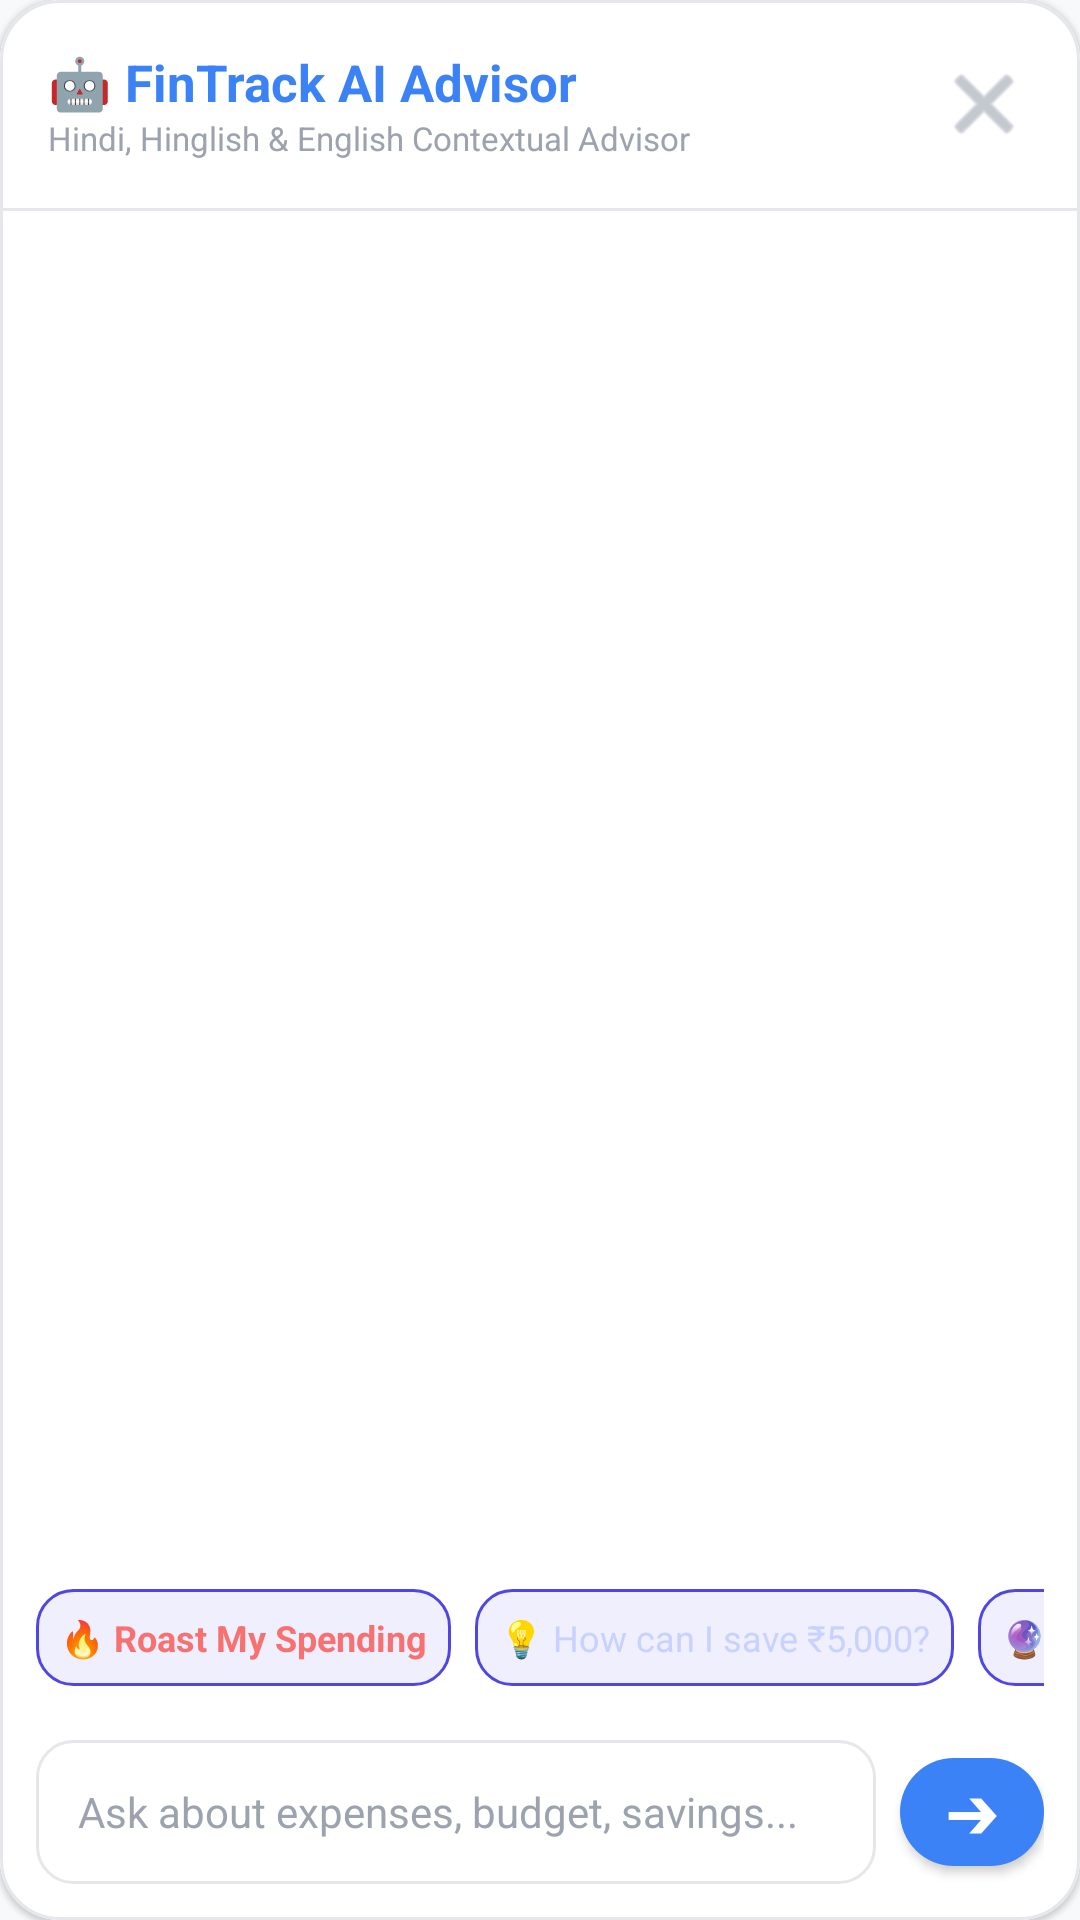

Locate icon controls on the screen. Image size 1080px x 1920px, boxes as (x1, y1, x2, y2).
close clear cancel: (955, 75, 1013, 133)
